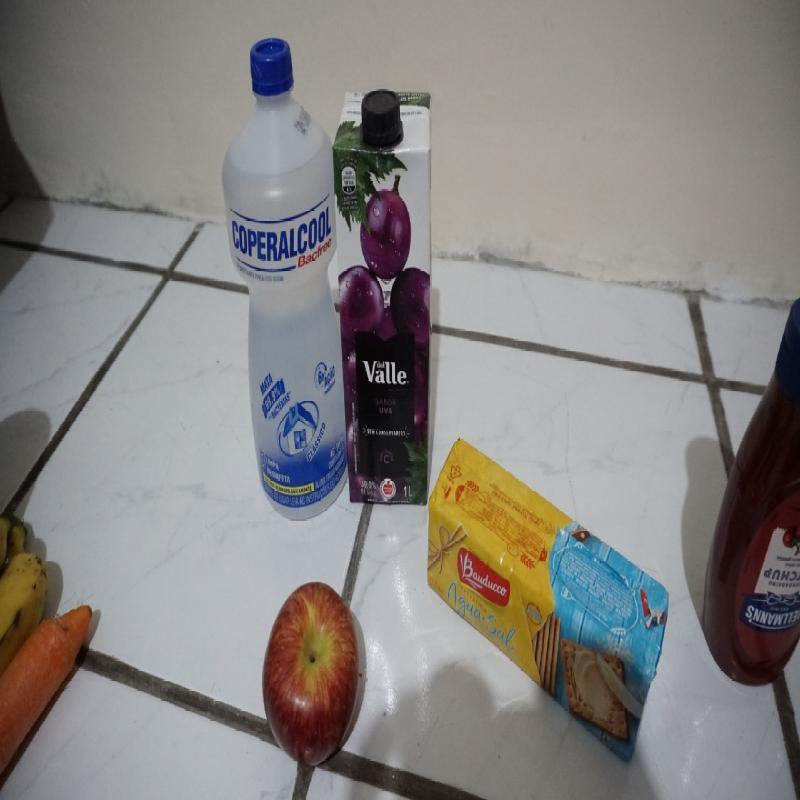Alcohol Bottle: (219, 37, 341, 515)
Apple: (258, 578, 361, 762)
Carrot: (0, 601, 94, 771)
Cracker: (426, 432, 672, 760)
Ketchup: (706, 286, 797, 696)
